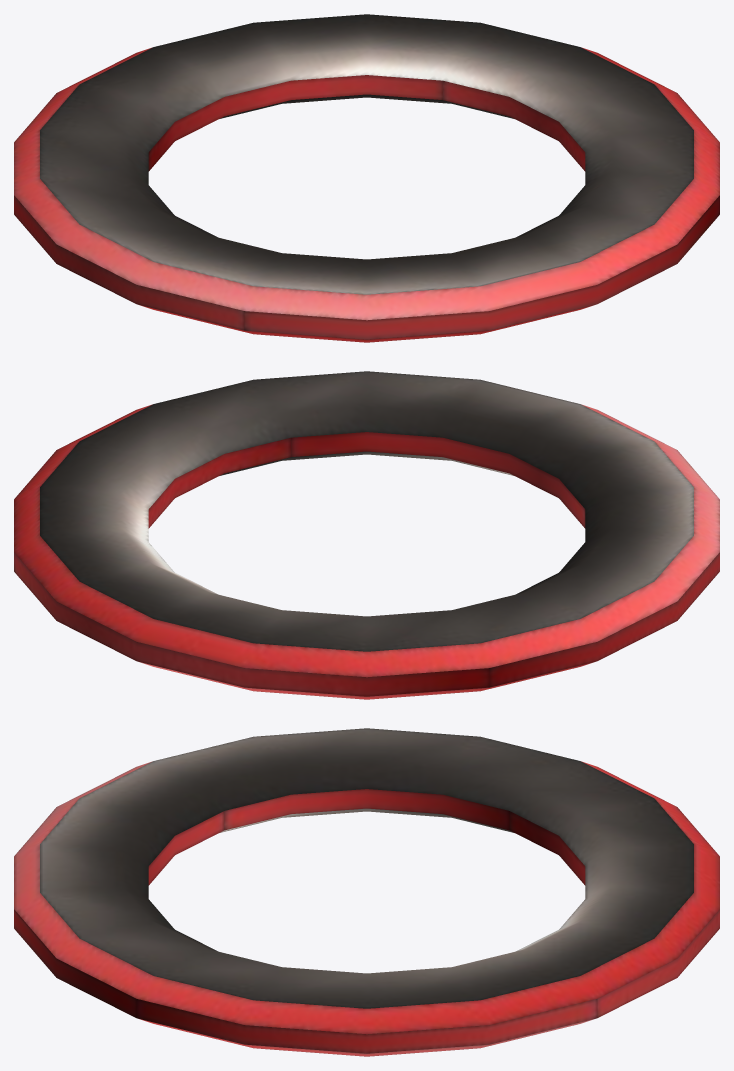
The model's file is colorVrisbee.obj.
3 views of the same model, one above another, from view 1: azimuth 30°, elevation 25°; view 2: azimuth 150°, elevation 25°; view 3: azimuth 270°, elevation 25° (orthographic).
Visible parts, largest first — view 1: Cylinder002; view 2: Cylinder002; view 3: Cylinder002.
Part boxes in pixels (<box>): Cylinder002: <box>14,14,719,342</box>; Cylinder002: <box>14,371,719,699</box>; Cylinder002: <box>14,728,719,1056</box>.
Bounding box in the file's own units: 27.42 × 2.02 × 27.01.
Materials: 1 (1 with a texture image).
